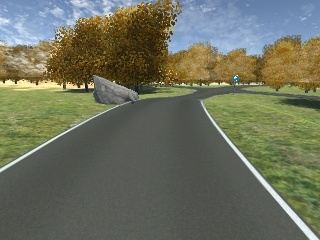Stone: (90, 74, 140, 105)
